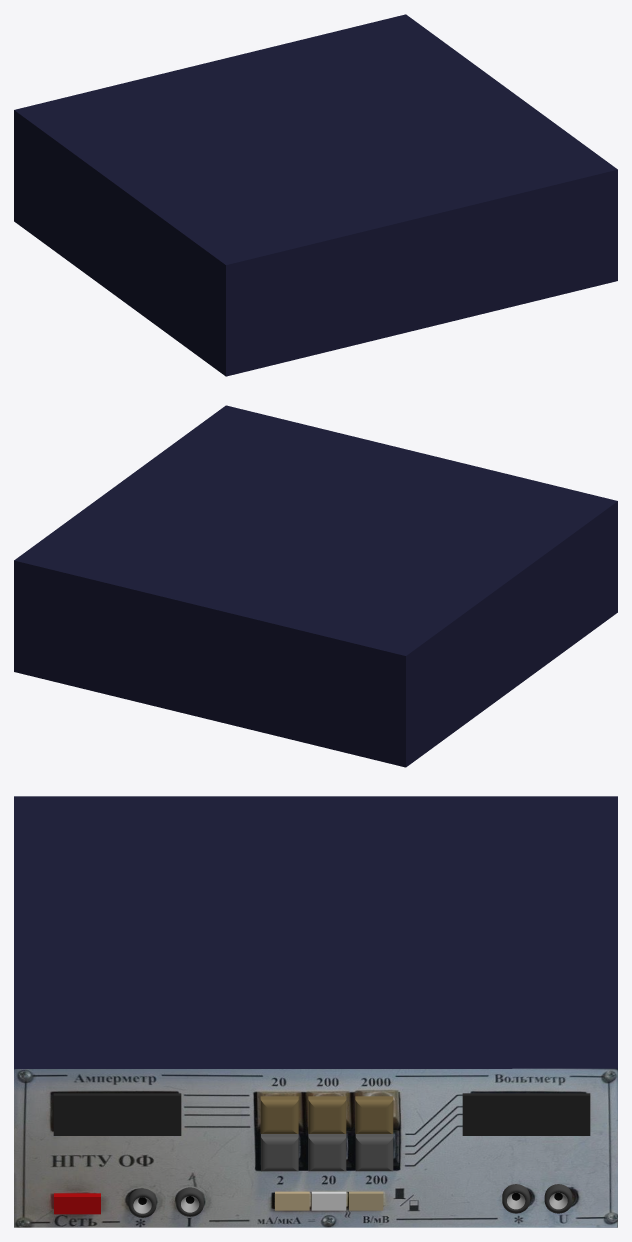
File: ammeter.glb
3 views of the same model, one above another, from view 1: azimuth 30°, elevation 25°; view 2: azimuth 150°, elevation 25°; view 3: azimuth 270°, elevation 25° (orthographic). The views are drawn at different scales.
Parts seen in each view (by area): view 1: Корпус; view 2: Корпус; view 3: Корпус, Диспелй Амперметра, Дисплей Вольтметра, Кнопка 1, Кнопка 2, Кнопка 3, Кнопка 5, Кнопка 6, Кнопка 4, Кнопка Сеть, Кнопка 8, Кнопка 7 (+5 smaller).
Part boxes in pixels (x1,y1,x2,y2): Корпус: (14, 14, 617, 376); Корпус: (14, 405, 617, 767); Корпус: (14, 796, 617, 1227); Диспелй Амперметра: (53, 1093, 181, 1135); Дисплей Вольтметра: (462, 1093, 590, 1135); Кнопка 1: (260, 1096, 298, 1133); Кнопка 2: (308, 1096, 346, 1133); Кнопка 3: (355, 1096, 393, 1133); Кнопка 5: (308, 1134, 346, 1171); Кнопка 6: (355, 1134, 393, 1171); Кнопка 4: (261, 1134, 298, 1171); Кнопка Сеть: (54, 1193, 100, 1214); Кнопка 8: (311, 1191, 346, 1210); Кнопка 7: (275, 1191, 309, 1210).
Bounding box in the file's own units: 11.75 × 3.13 × 10.8.
26 materials, 1 textured.
